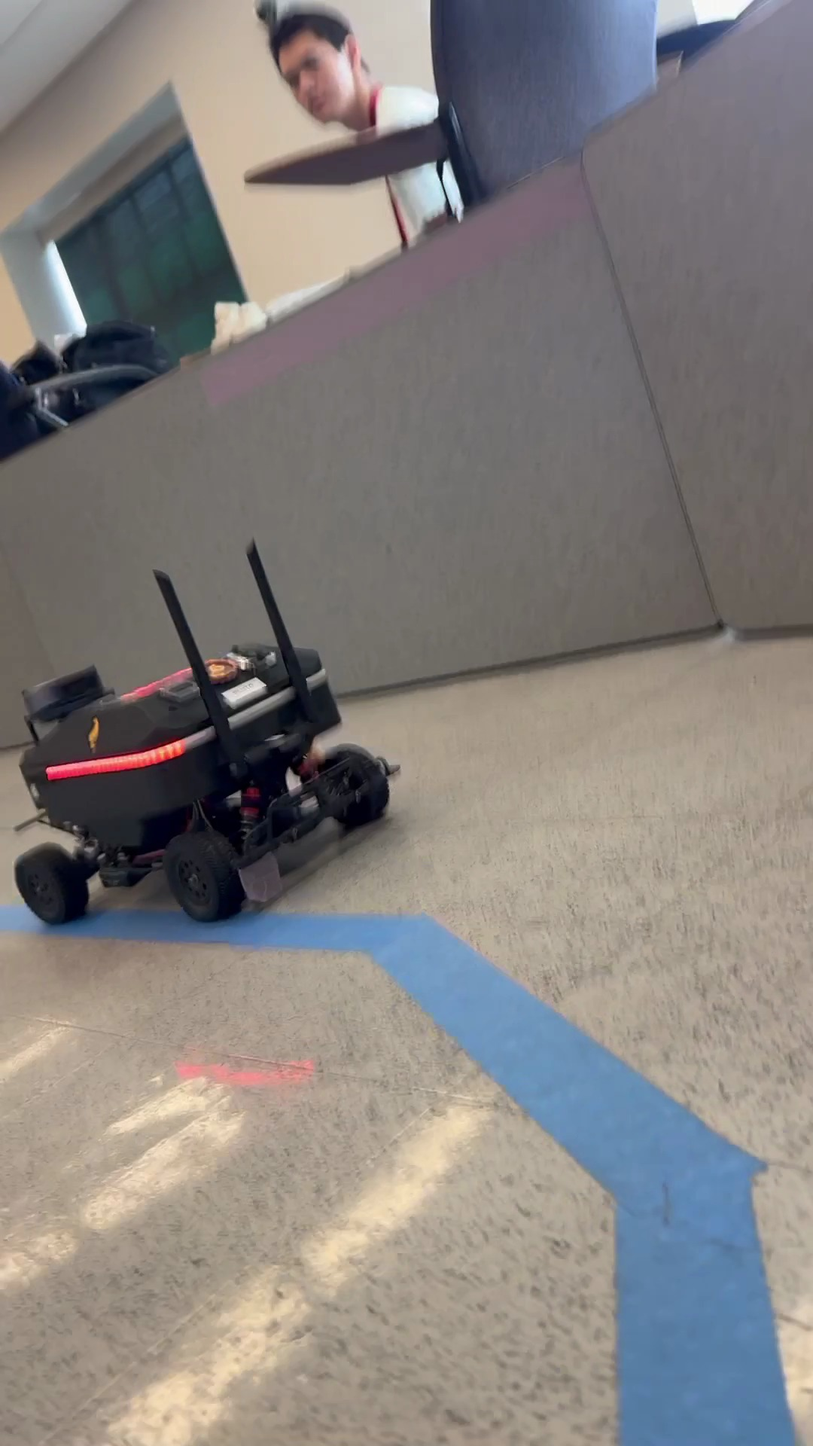racecar: (8, 539, 399, 925)
